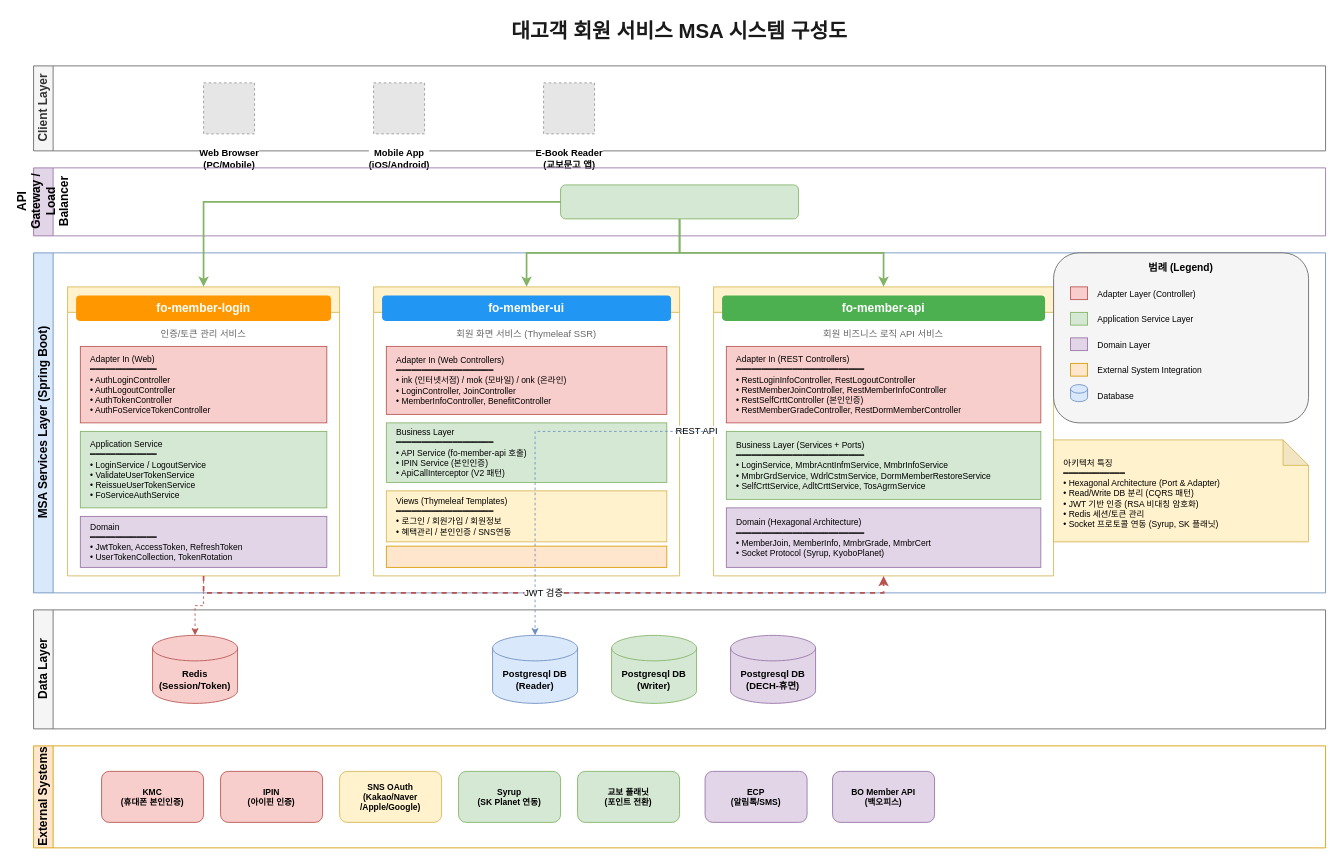
Image size: 1340x863. Some labels were removed from this diagram. Grey dashed boxes stand in for pictures. Here are the shapes that lost their labels. From the top down, the centre of each, then its label:
the point at 679,201: K8s Ingress
the point at 526,556: Adapter Out: RestTemplate → fo-member-api
